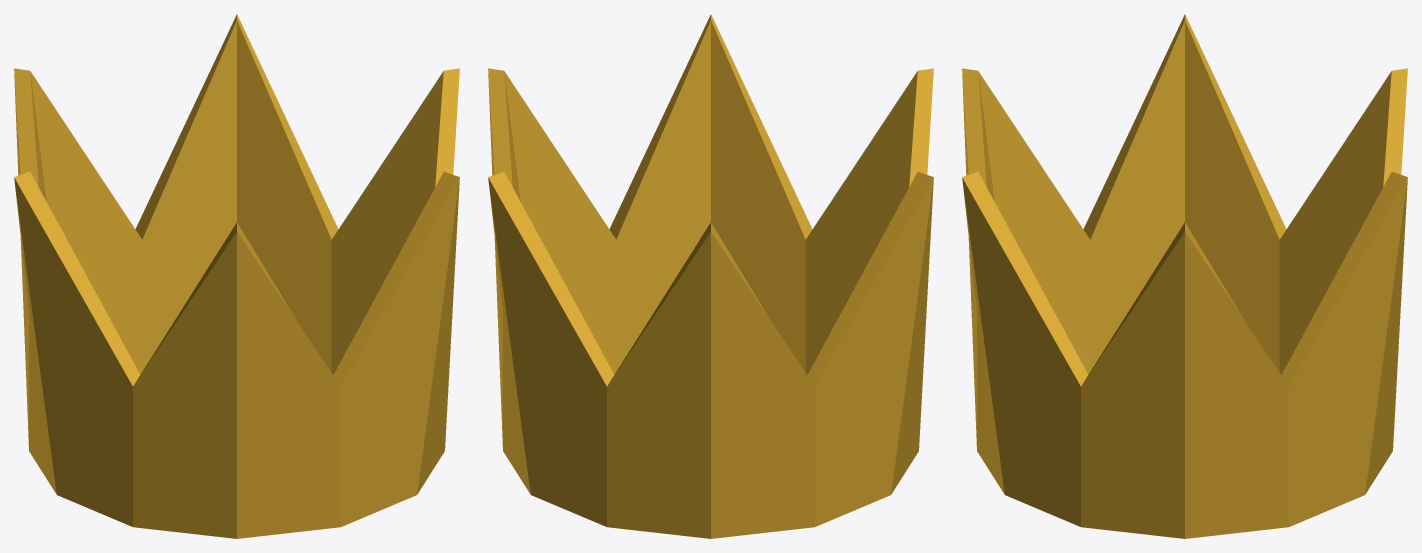
The model's file is crown.glb.
The picture shows the model from 3 angles, left to right: view 1: azimuth 30°, elevation 25°; view 2: azimuth 150°, elevation 25°; view 3: azimuth 270°, elevation 25°; orthographic projection.
Visible parts, largest first — view 1: Crown; view 2: Crown; view 3: Crown.
Boxes of the visible parts, <box> form: Crown: <box>14,14,459,538</box>; Crown: <box>488,14,933,538</box>; Crown: <box>962,14,1407,538</box>.
Bounding box in the file's own units: 2.47 × 1.75 × 2.14.
